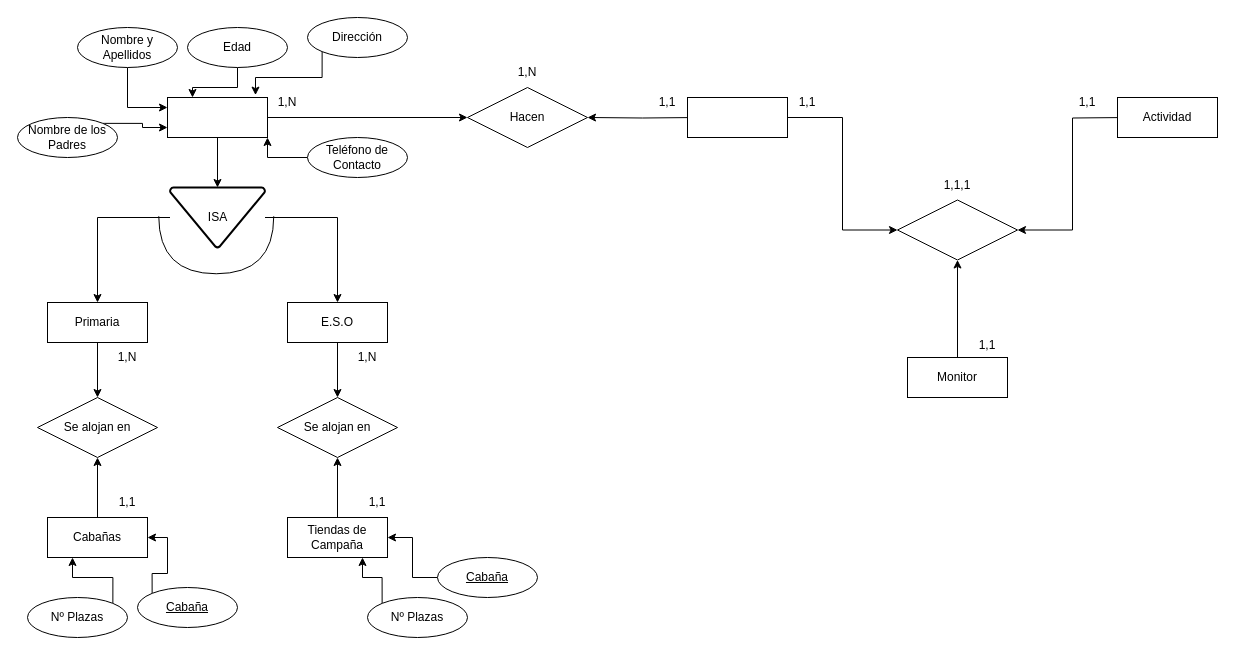
The diagram is 1235 pixels wide and 655 high, and some of its shapes have lost their labels. The shapes that lost their labels are listed below. From the top down, each one's centre as x and y in pixels, then its label:
(217,117): Niños
(737,117): Grupo
(957,229): Realizan
